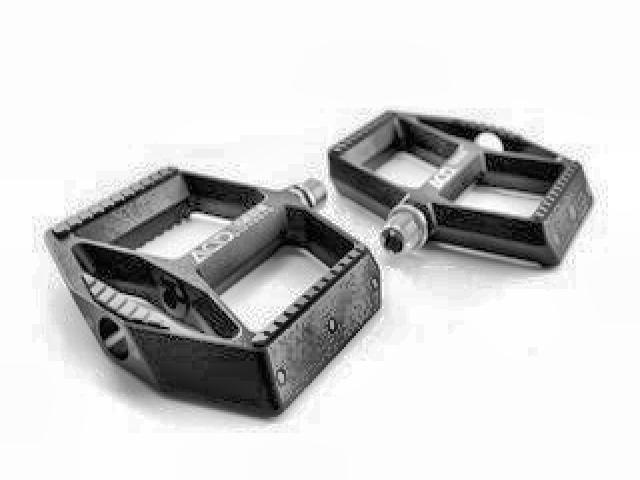pedal: (39, 158, 388, 430), (324, 102, 601, 274)
